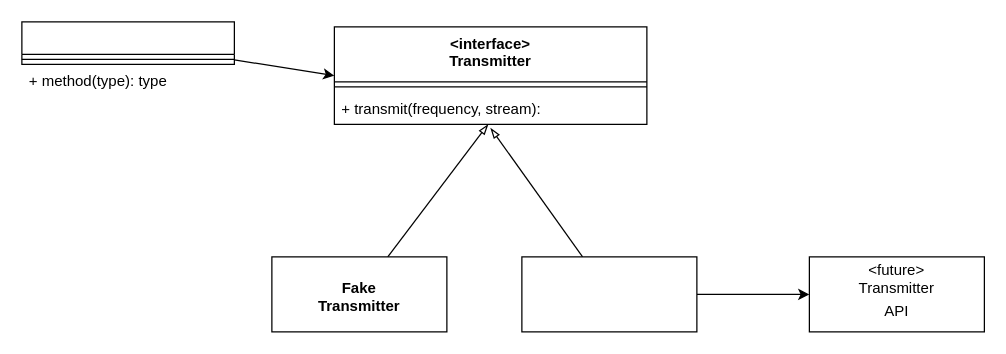
The diagram is 1006 pixels wide and 354 high, and some of its shapes have lost their labels. The shapes that lost their labels are listed below. From the top down, each one's box as (x1, y1, x2, y2) in pixels, then its label:
(21, 21, 234, 64): CommunicationController
(521, 256, 697, 332): Transmitter Adpater
